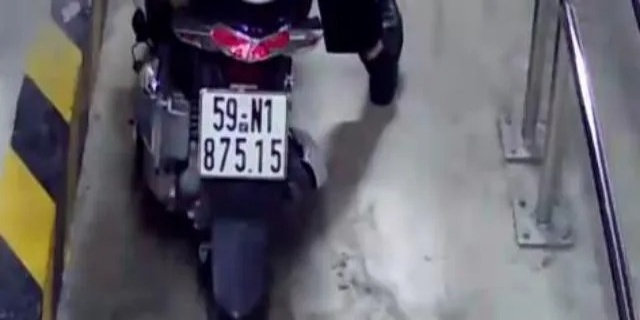bien_so: (197, 86, 290, 182)
